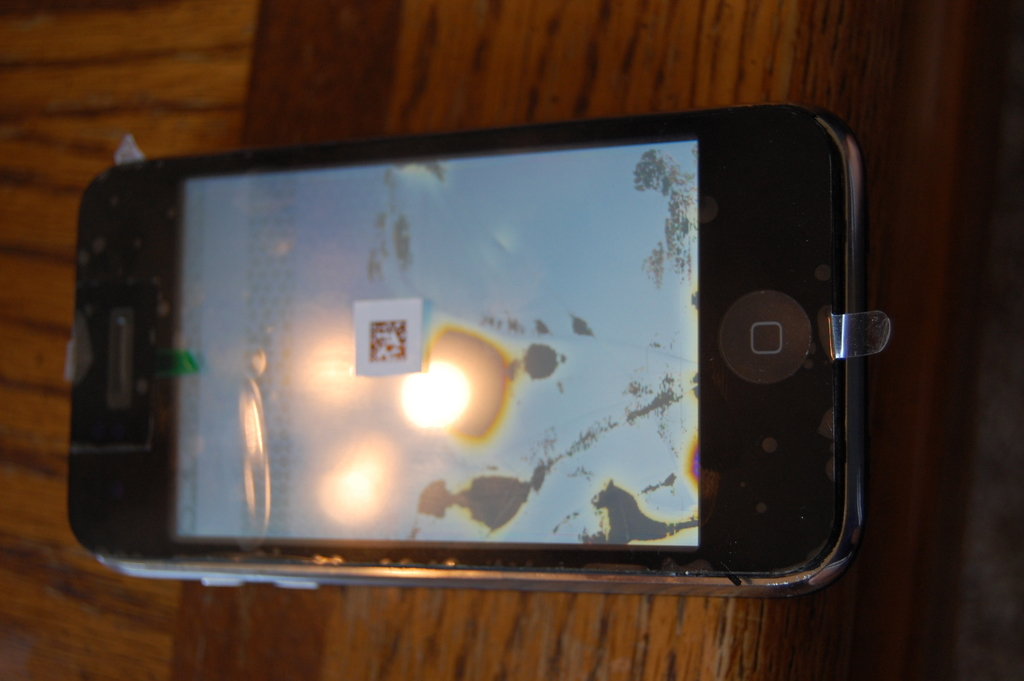mobile phone: (38, 119, 938, 611)
